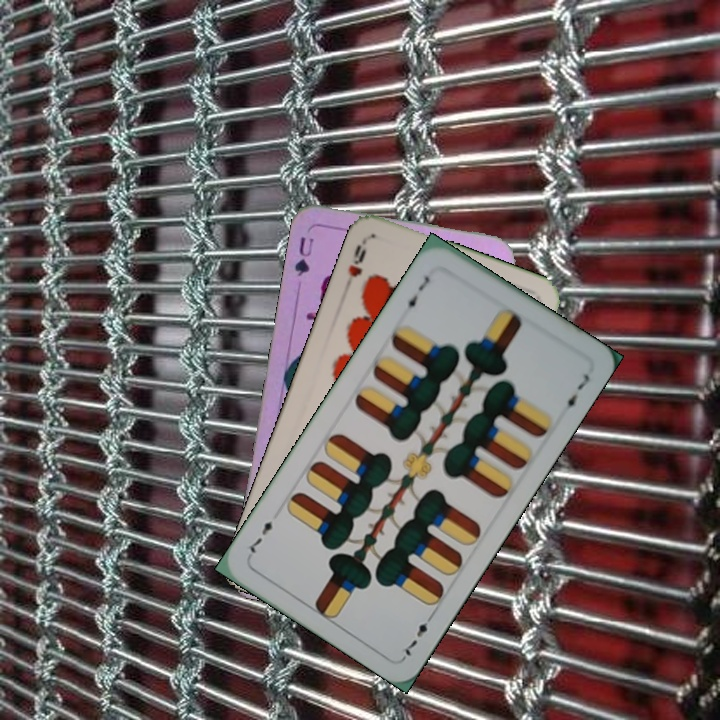E7: (398, 608, 437, 661), (399, 272, 433, 315)
GU: (290, 233, 316, 279)
H9: (344, 235, 370, 280)
